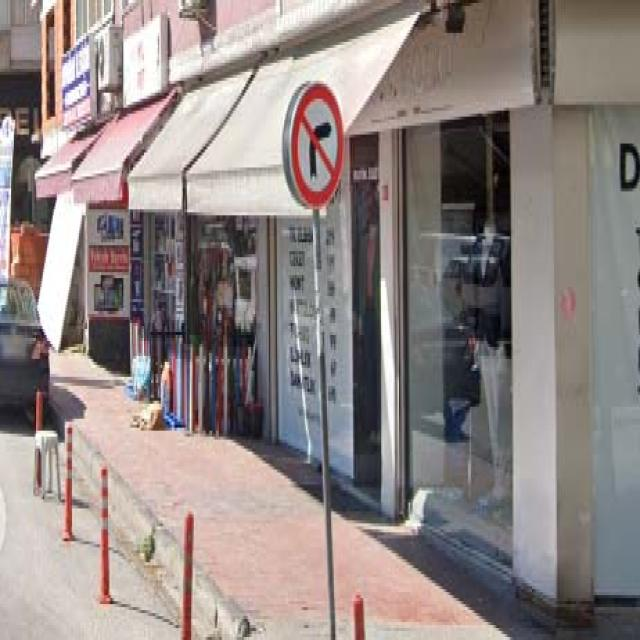sagadonulmez: (291, 81, 345, 206)
